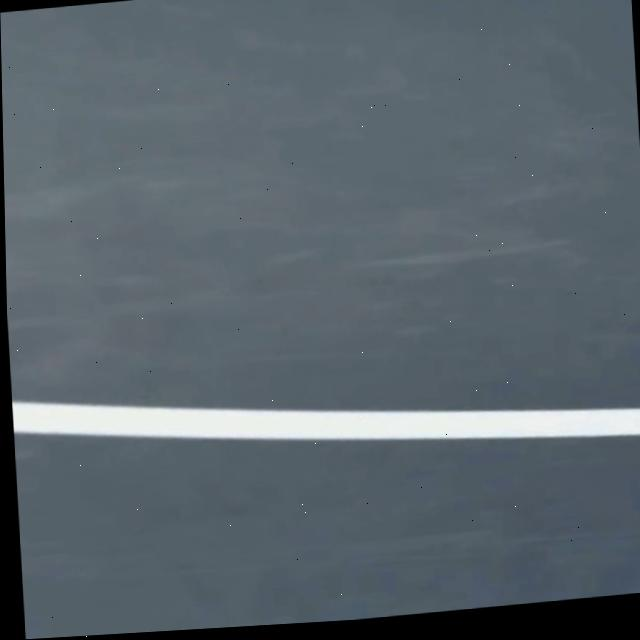center: (11, 400, 640, 439)
